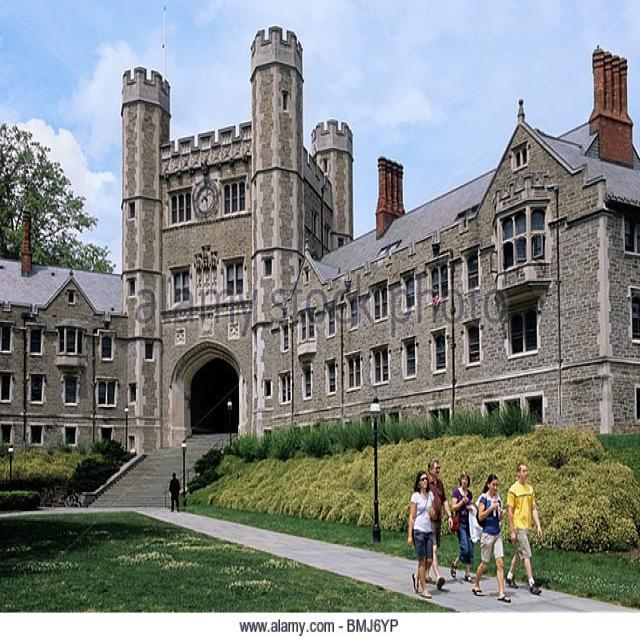body: (504, 458, 545, 598), (470, 472, 513, 604), (406, 466, 436, 597), (424, 458, 453, 592), (448, 471, 478, 584), (168, 472, 183, 516)
